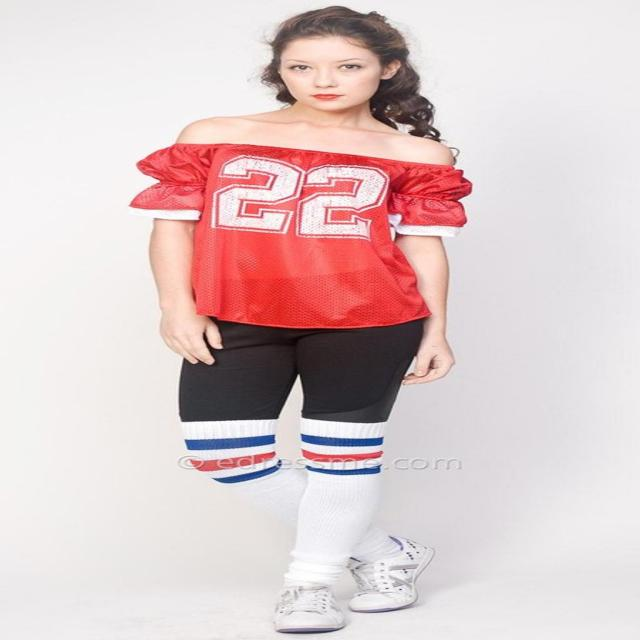nomask: (278, 36, 382, 110)
